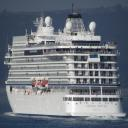cruises: (4, 13, 128, 121)
